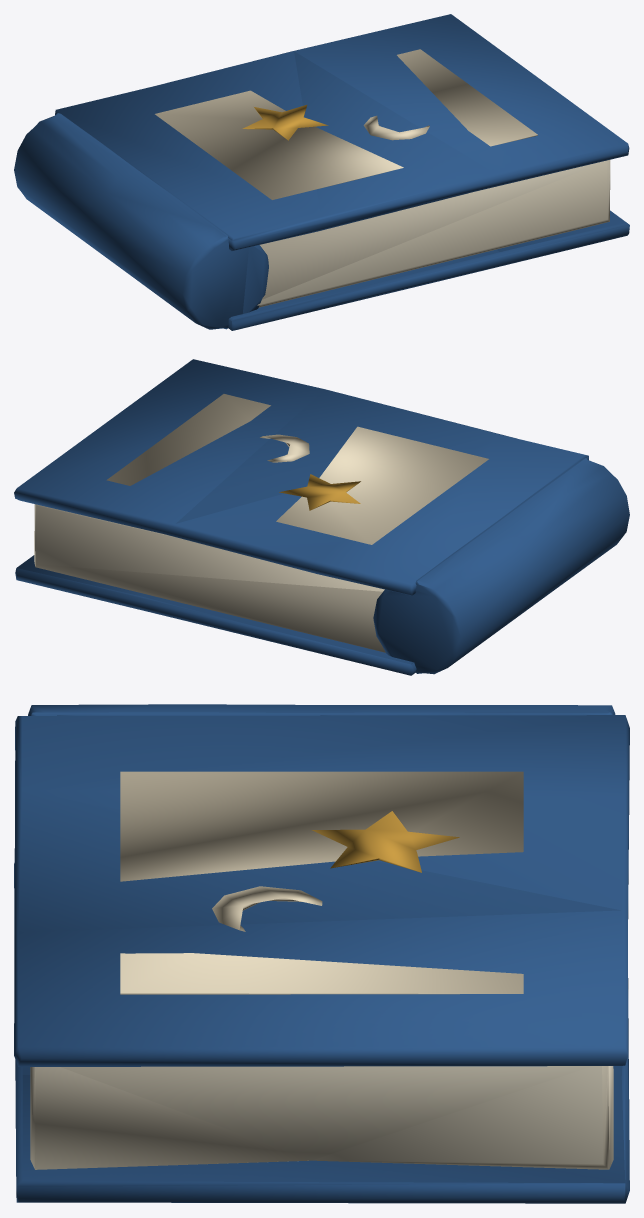
File: den_story_book_lod2.glb
3 renders of one model, top to bottom at view 1: azimuth 30°, elevation 25°; view 2: azimuth 150°, elevation 25°; view 3: azimuth 270°, elevation 25°, orthographic. The views are drawn at different scales.
Parts seen in each view (by area): view 1: den_story_book.001; view 2: den_story_book.001; view 3: den_story_book.001.
Part boxes in pixels (left/top/right/bottom): den_story_book.001: left=14, top=14, right=629, bottom=330; den_story_book.001: left=14, top=359, right=629, bottom=675; den_story_book.001: left=14, top=704, right=629, bottom=1203.
Size of the model in its own units: 20.02 by 4.1 by 14.04.
